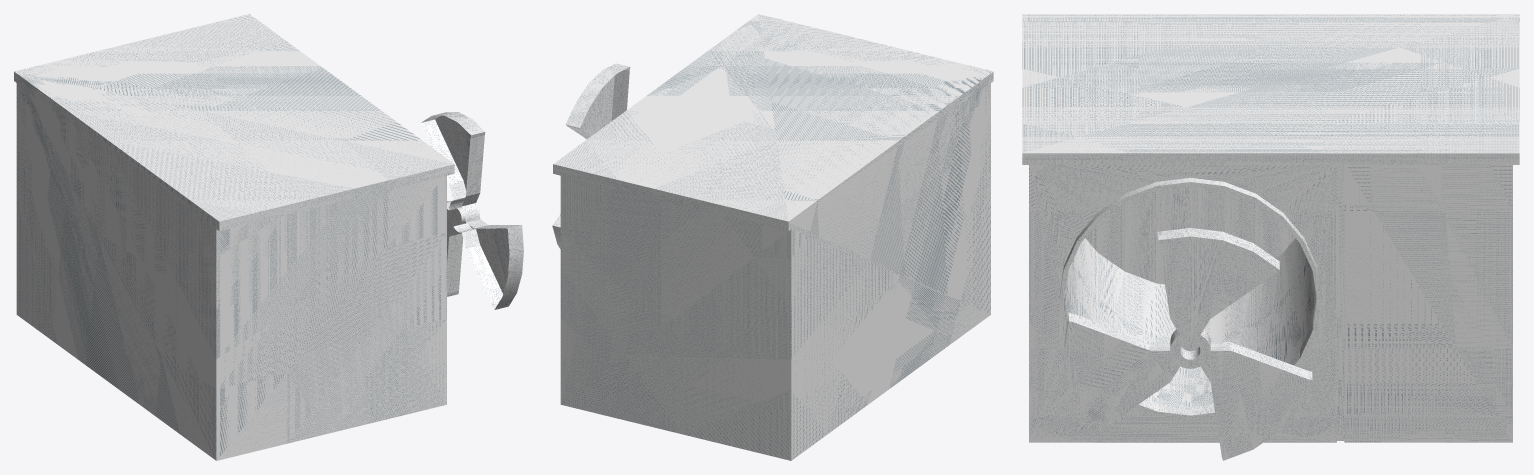
Rendered from Fan.dae.
3 renders of one model, left to right at view 1: azimuth 30°, elevation 25°; view 2: azimuth 150°, elevation 25°; view 3: azimuth 270°, elevation 25°, orthographic. The views are drawn at different scales.
Visible parts, largest first — view 1: SketchUp (×2); view 2: SketchUp (×2); view 3: SketchUp (×4).
Part boxes in pixels (bbox=[...]): SketchUp (×2): bbox=[14, 14, 523, 460]; SketchUp (×2): bbox=[552, 14, 993, 460]; SketchUp (×4): bbox=[1022, 14, 1519, 460].
Bounding box in the file's own units: 1.4 × 1.54 × 1.
